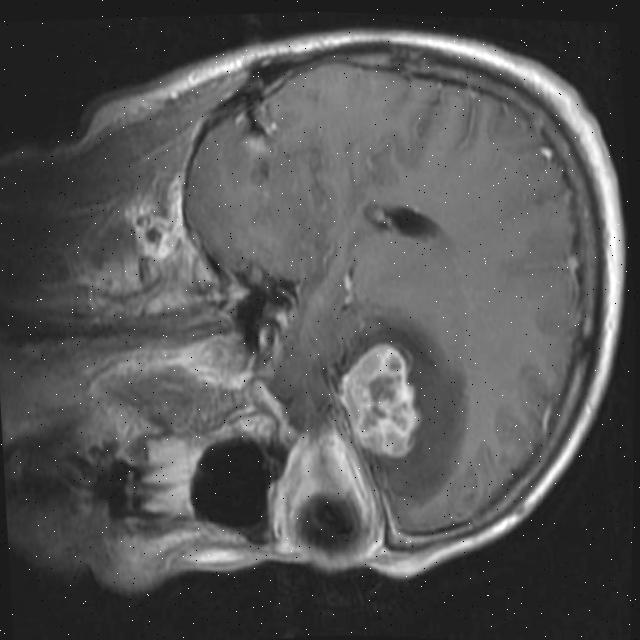Meningioma: (332, 338, 426, 465)
